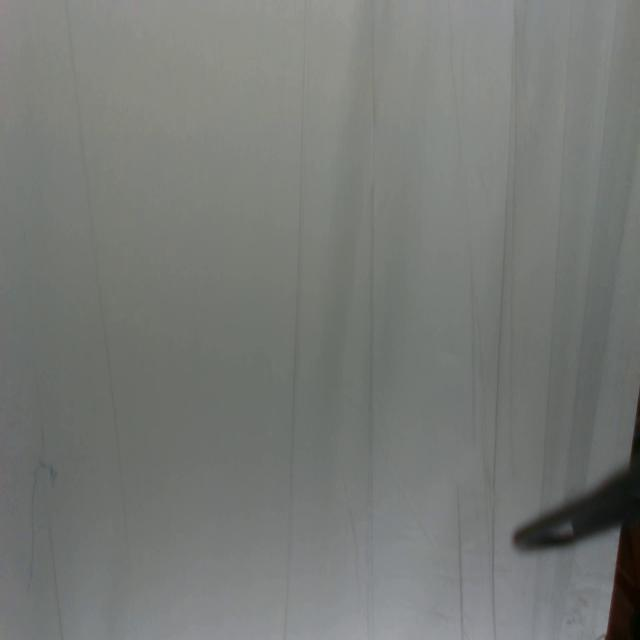crease: (67, 6, 130, 579), (566, 0, 620, 476), (538, 0, 575, 500), (488, 0, 517, 636), (281, 0, 309, 636), (367, 3, 377, 640), (466, 244, 480, 435), (446, 42, 464, 148), (47, 524, 63, 638), (454, 488, 464, 640)
